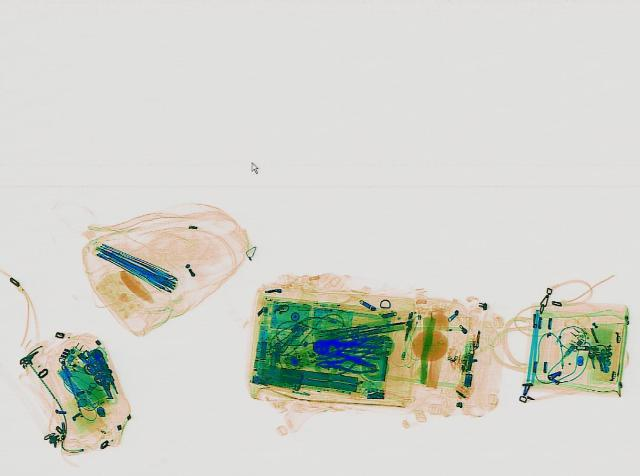Pliers: (306, 332, 384, 367), (309, 326, 381, 359), (313, 353, 379, 370)
